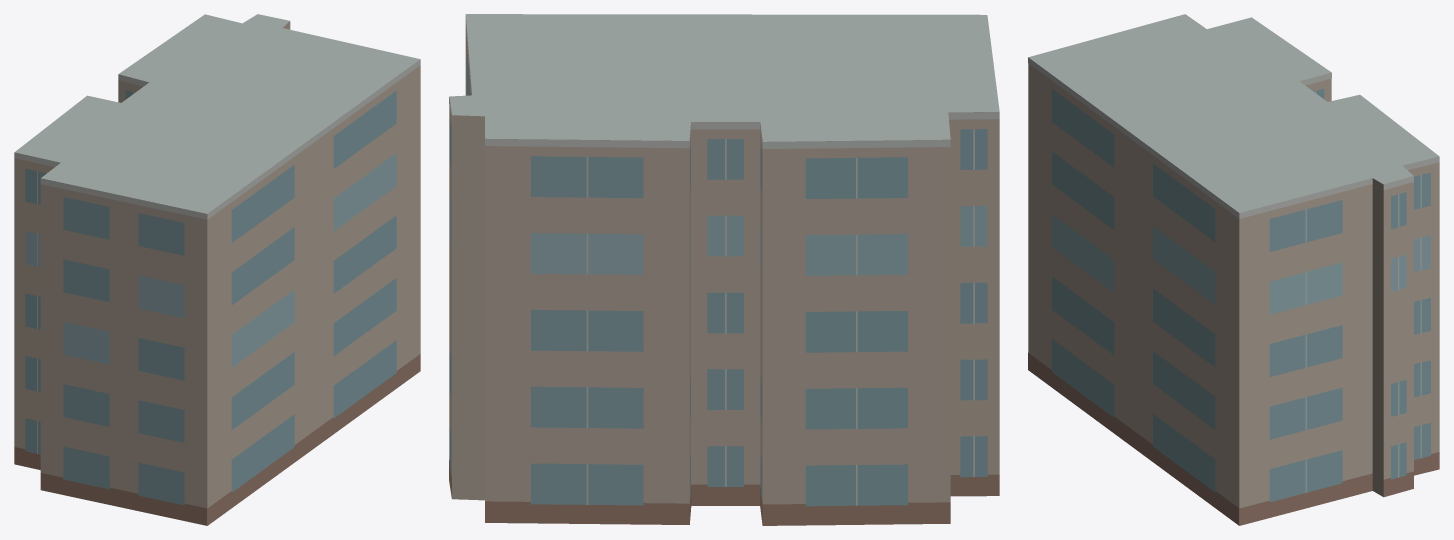
Rendered from survey-upis-32756865.glb.
3 views of the same model, side by side, from view 1: azimuth 30°, elevation 25°; view 2: azimuth 150°, elevation 25°; view 3: azimuth 270°, elevation 25° (orthographic). The views are drawn at different scales.
Visible parts, largest first — view 1: survey-upis-32756865.tmp; view 2: survey-upis-32756865.tmp; view 3: survey-upis-32756865.tmp.
Part boxes in pixels (bbox=[...]): survey-upis-32756865.tmp: bbox=[14, 14, 420, 525]; survey-upis-32756865.tmp: bbox=[449, 14, 999, 525]; survey-upis-32756865.tmp: bbox=[1028, 14, 1439, 525].
Size of the model in its own units: 17.61 by 12.9 by 15.39.
